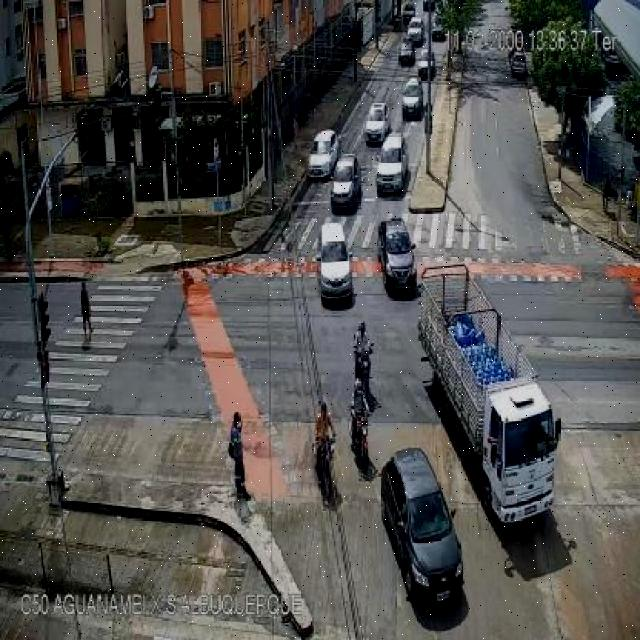Car: (381, 447, 468, 600), (314, 223, 356, 300), (378, 216, 419, 294), (375, 132, 407, 194), (306, 127, 340, 176), (332, 153, 362, 205), (365, 100, 390, 145), (399, 79, 425, 119), (418, 49, 438, 79), (406, 16, 424, 42), (398, 38, 414, 64)
Cycle: (346, 378, 376, 463), (312, 399, 342, 478), (349, 321, 378, 383)
Truck: (417, 259, 568, 534)
